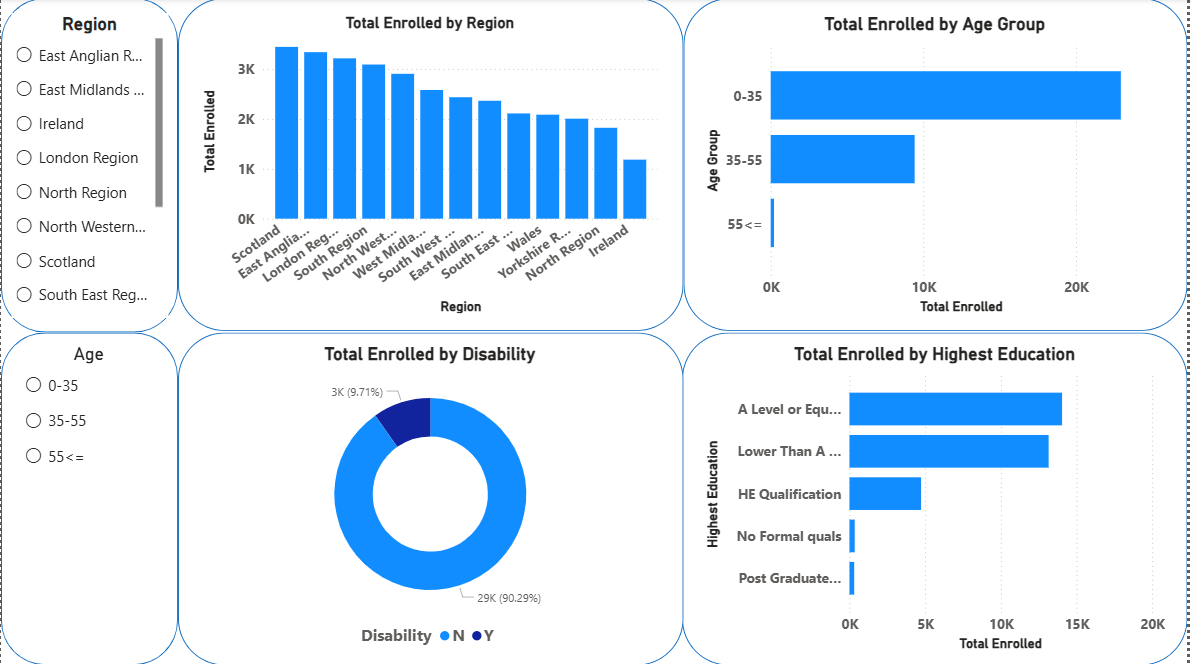

Layout of this report page (visuals, bound fields, positions):
{"tool":"powerbi","page":{"name":"Demographics","canvas":[1280,720],"ordinal":1},"visuals":[{"type":"shape","box":[736.7,0,544.1,359.5],"z":0},{"type":"clusteredBarChart","fields":{"Category":["vw_enrollment_master.age_band"],"Y":["vw_enrollment_master.Total Enrolled"]},"box":[754.6,16.2,506.8,328.7],"z":1000},{"type":"shape","box":[191.1,0,545.7,359.5],"z":2000},{"type":"clusteredColumnChart","fields":{"Category":["vw_enrollment_master.region"],"Y":["vw_enrollment_master.Total Enrolled"]},"box":[212.1,16.2,502,328.7],"z":3000},{"type":"shape","box":[735.1,361.1,545.7,359.5],"z":4000},{"type":"clusteredBarChart","title":"Total Enrolled by Highest Education","fields":{"Category":["vw_enrollment_master.highest_education"],"Y":["vw_enrollment_master.Total Enrolled"]},"box":[754.6,372.4,506.8,336.8],"z":5000},{"type":"shape","box":[191.1,361.1,545.7,359.5],"z":6000},{"type":"donutChart","fields":{"Category":["vw_enrollment_master.disability"],"Y":["vw_enrollment_master.Total Enrolled"]},"box":[212.1,372.4,502,336.8],"z":7000},{"type":"shape","box":[0,0,191.1,361.1],"z":8000},{"type":"listSlicer","title":"Region","fields":{"Values":["vw_enrollment_master.region"]},"box":[11.3,16.2,168.4,328.7],"z":9000},{"type":"shape","title":"Age","box":[0,361,191,359],"z":9500},{"type":"listSlicer","title":"Age","fields":{"Values":["vw_enrollment_master.age_band"]},"box":[21,372.4,147.3,336.8],"z":10000}]}

Visuals, with their boxes in screenshot pixels (x1, y1, x2, y2), scaled from the page's 1280x720 canvas onto the 1191x664 screenshot:
shape: [685,0,1190,332]
clusteredBarChart - vw_enrollment_master.age_band x vw_enrollment_master.Total Enrolled: [702,15,1174,318]
shape: [178,0,686,332]
clusteredColumnChart - vw_enrollment_master.region x vw_enrollment_master.Total Enrolled: [197,15,664,318]
shape: [684,333,1190,663]
"Total Enrolled by Highest Education" clusteredBarChart: [702,343,1174,654]
shape: [178,333,686,663]
donutChart - vw_enrollment_master.disability x vw_enrollment_master.Total Enrolled: [197,343,664,654]
shape: [0,0,178,333]
"Region" listSlicer: [11,15,167,318]
"Age" shape: [0,333,178,663]
"Age" listSlicer: [20,343,157,654]
